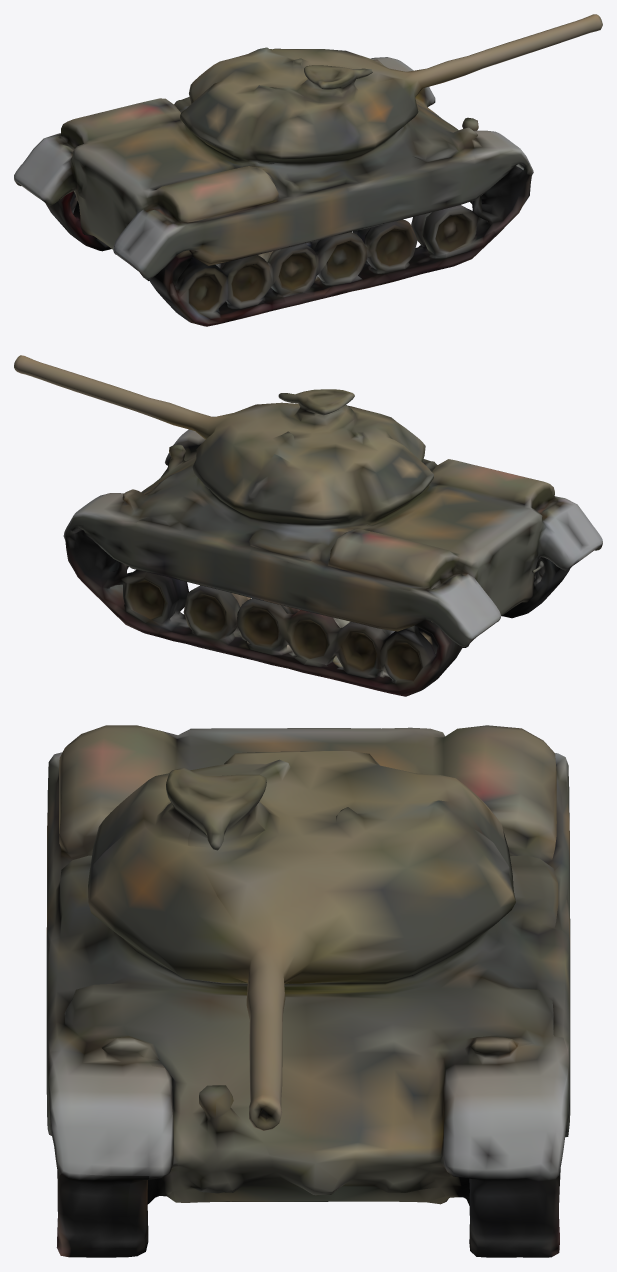
The model's file is 6512341-camouflage-tank-10k.glb.
3 renders of one model, top to bottom at view 1: azimuth 30°, elevation 25°; view 2: azimuth 150°, elevation 25°; view 3: azimuth 270°, elevation 25°, orthographic. The views are drawn at different scales.
Parts seen in each view (by area): view 1: Retopo_neural_node_b9825a1f-e197-4695-8398-7e4aa108c671; view 2: Retopo_neural_node_b9825a1f-e197-4695-8398-7e4aa108c671; view 3: Retopo_neural_node_b9825a1f-e197-4695-8398-7e4aa108c671.
Part boxes in pixels (left/top/right/bottom): Retopo_neural_node_b9825a1f-e197-4695-8398-7e4aa108c671: left=14, top=14, right=602, bottom=326; Retopo_neural_node_b9825a1f-e197-4695-8398-7e4aa108c671: left=14, top=355, right=602, bottom=696; Retopo_neural_node_b9825a1f-e197-4695-8398-7e4aa108c671: left=46, top=725, right=570, bottom=1257.
Bounding box in the file's own units: 0.9465 × 0.334 × 0.418.
